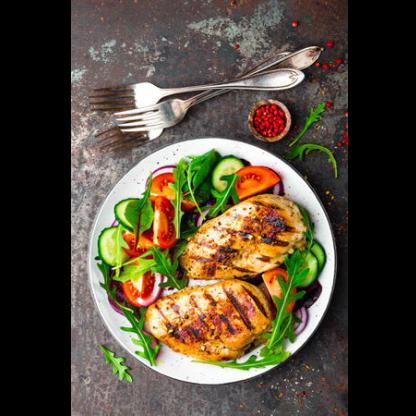grilled chicken breast: (179, 195, 303, 278), (143, 281, 269, 359)
salad: (92, 154, 178, 302), (149, 153, 281, 195)
